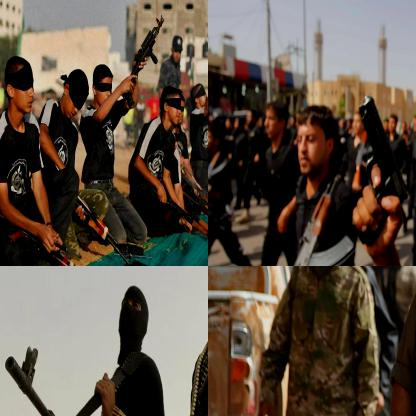pistol: (350, 98, 409, 246)
rifle: (139, 266, 207, 415), (279, 153, 355, 265), (0, 199, 102, 265), (4, 345, 98, 415), (120, 15, 167, 108), (73, 195, 130, 265), (151, 189, 207, 243), (179, 189, 207, 228)
